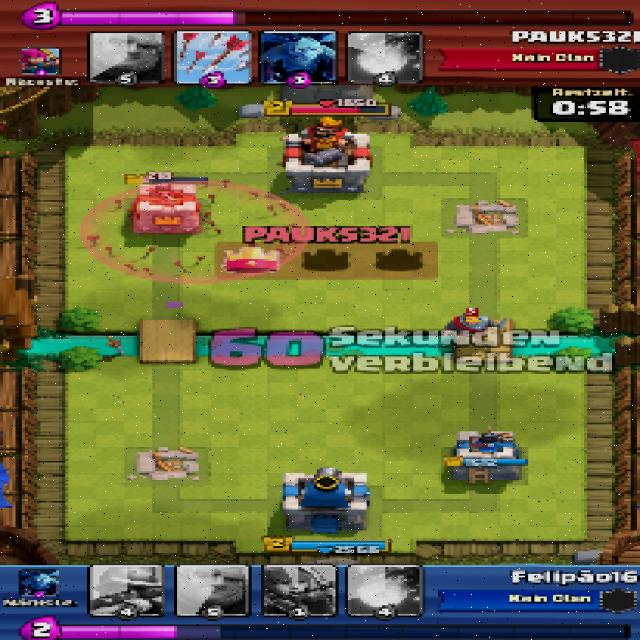Enemy-Knight: (440, 314, 506, 341)
Player-Arrow: (85, 178, 307, 285)
